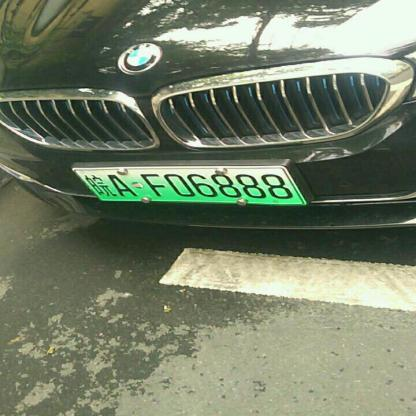lp: (70, 166, 304, 204)
